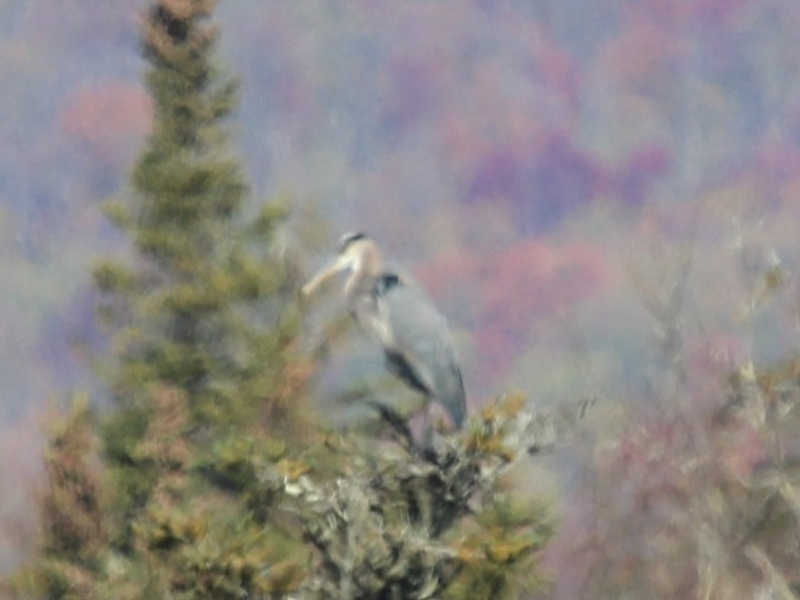heron: (336, 232, 467, 449)
